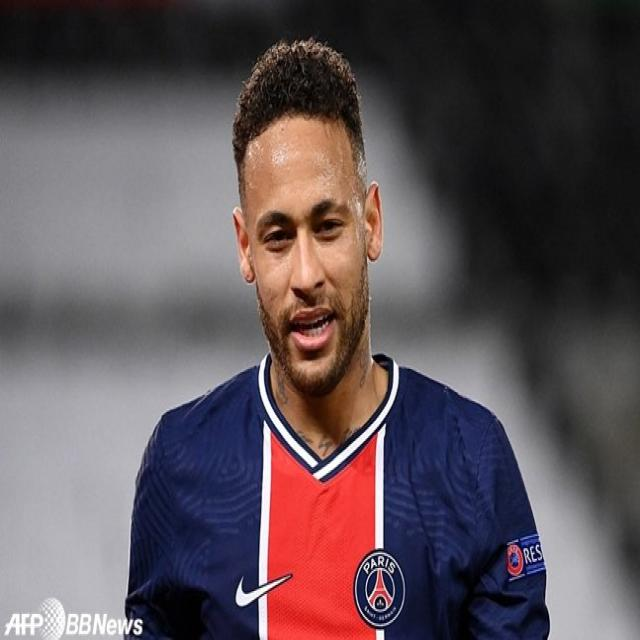neymar: (231, 37, 389, 406)
